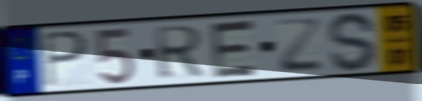5: (93, 24, 138, 86)
E: (209, 17, 260, 80)
P: (40, 30, 90, 90)
R: (152, 23, 206, 82)
S: (326, 10, 378, 74)
Z: (274, 17, 325, 75)
